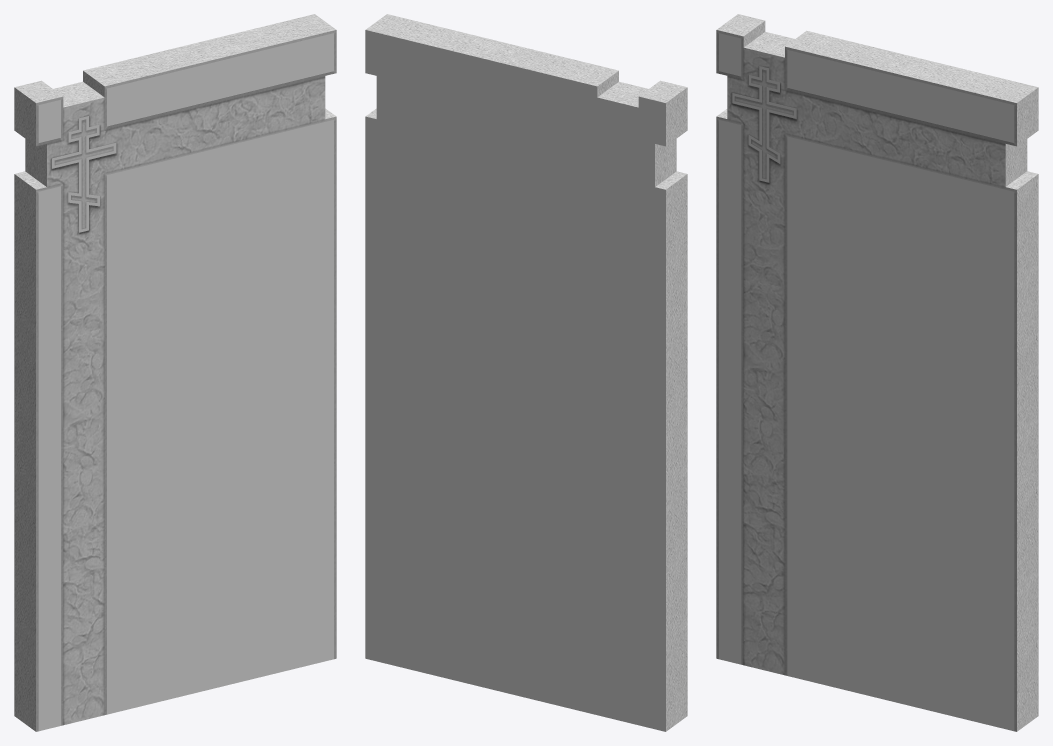
File: cn36a5972e0b_tkf.glb
The picture shows the model from 3 angles, left to right: view 1: azimuth 30°, elevation 25°; view 2: azimuth 150°, elevation 25°; view 3: azimuth 330°, elevation 25°; orthographic projection.
Visible parts, largest first — view 1: Pam-d03-200, Pam-d03-200_2_notexture; view 2: Pam-d03-200, Pam-d03-200_2_notexture; view 3: Pam-d03-200, Pam-d03-200_2_notexture.
Boxes of the visible parts, x1=… form: Pam-d03-200: x1=38, y1=33, x2=333, y2=731; Pam-d03-200_2_notexture: x1=14, y1=14, x2=336, y2=731; Pam-d03-200: x1=365, y1=30, x2=665, y2=731; Pam-d03-200_2_notexture: x1=365, y1=14, x2=687, y2=731; Pam-d03-200: x1=719, y1=33, x2=1014, y2=731; Pam-d03-200_2_notexture: x1=716, y1=14, x2=1038, y2=731.
Bounding box in the file's own units: 0.4 × 0.8 × 0.05.
Materials: 1 (1 with a texture image).
